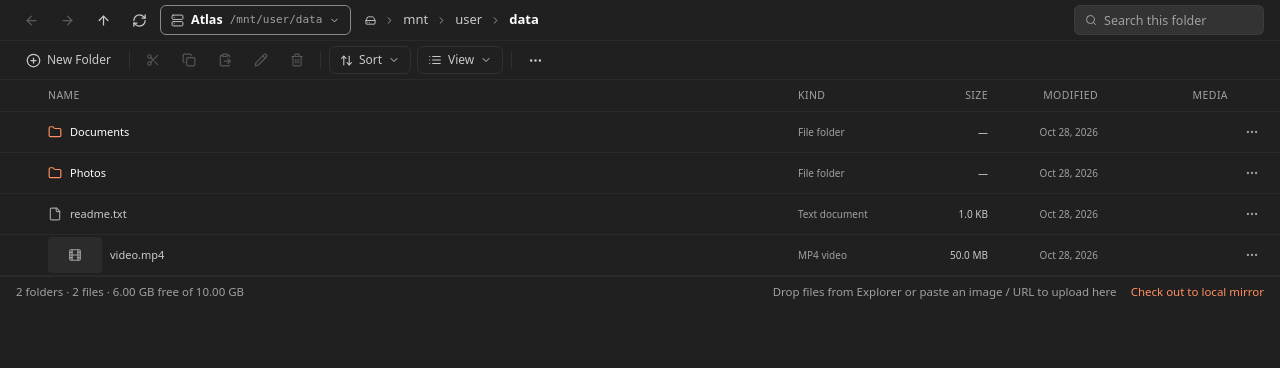
BrowseView redesign — two-row toolbar › overflow "Select none" clears the current selection, the same as Escape
Expected: the text "readme.txt" is shown, [70, 206, 127, 222]
Click the button named "More options": (535, 60) [520, 45, 550, 75]
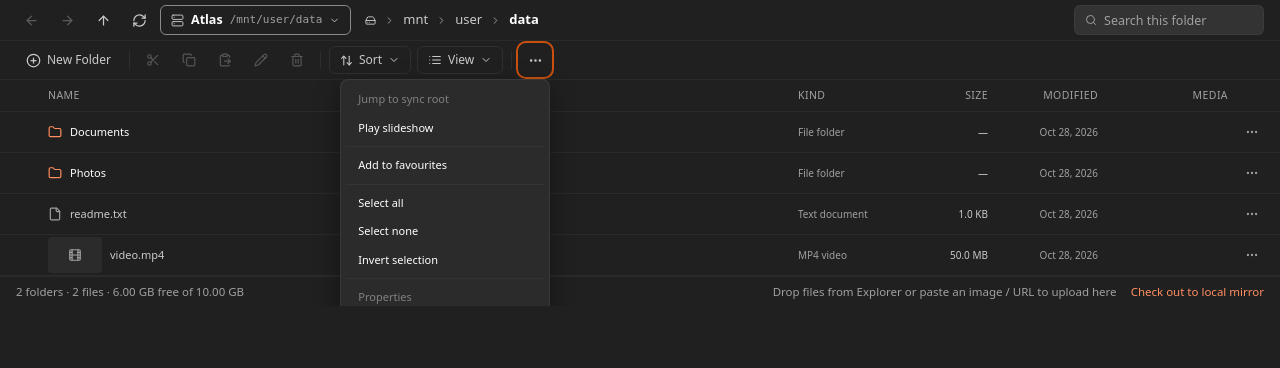
Click the menu item "Select all": (445, 203) [346, 188, 544, 217]
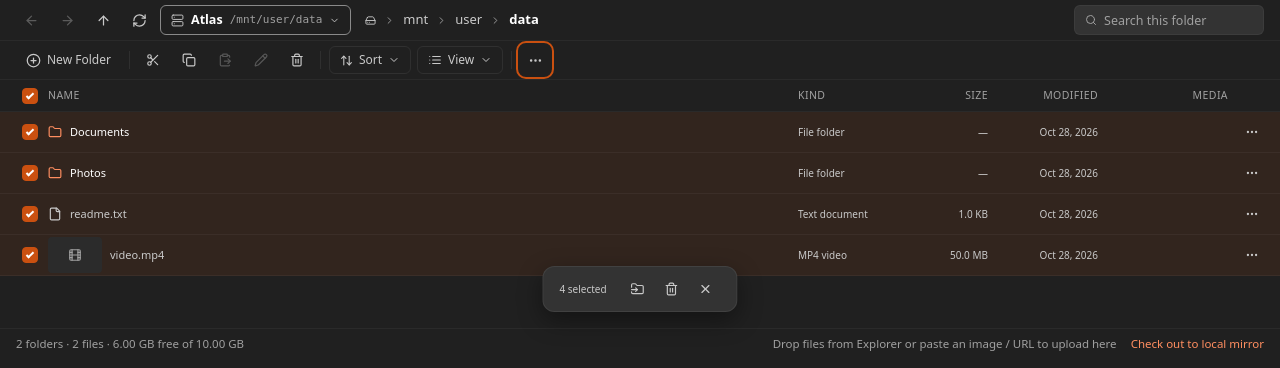
Now the 1st button named "Delete selected" is enabled, box [282, 45, 312, 75]
Click the button named "More options": (535, 60) [520, 45, 550, 75]
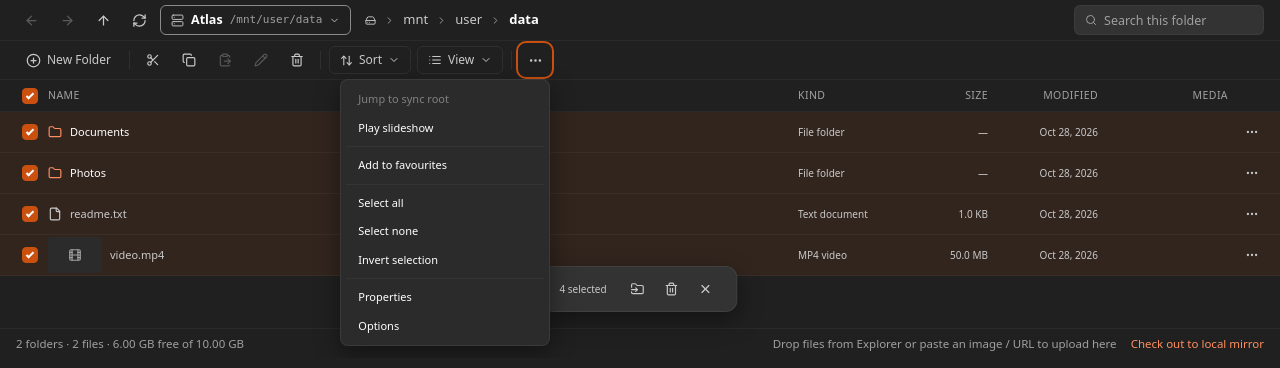
Click the menu item "Select none": (445, 231) [346, 217, 544, 246]
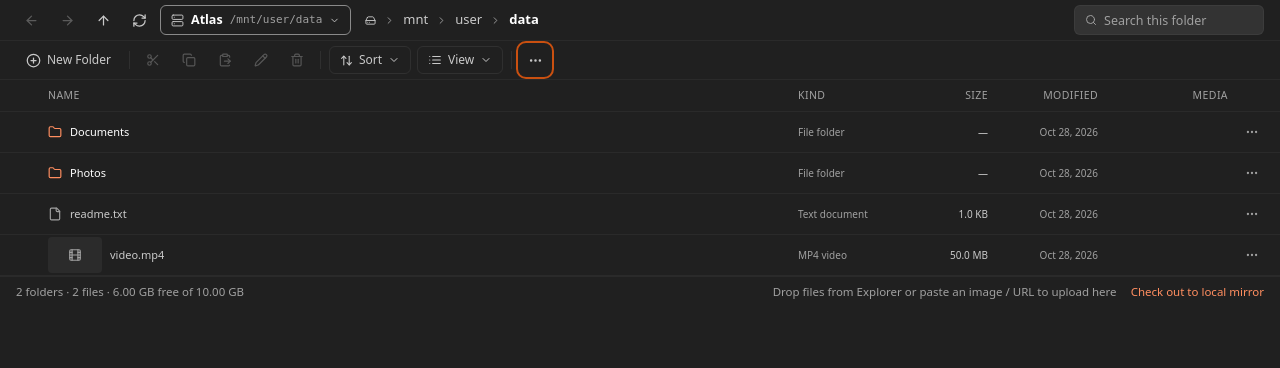
Now the button named "Delete selected" is disabled, box [282, 45, 312, 75]
